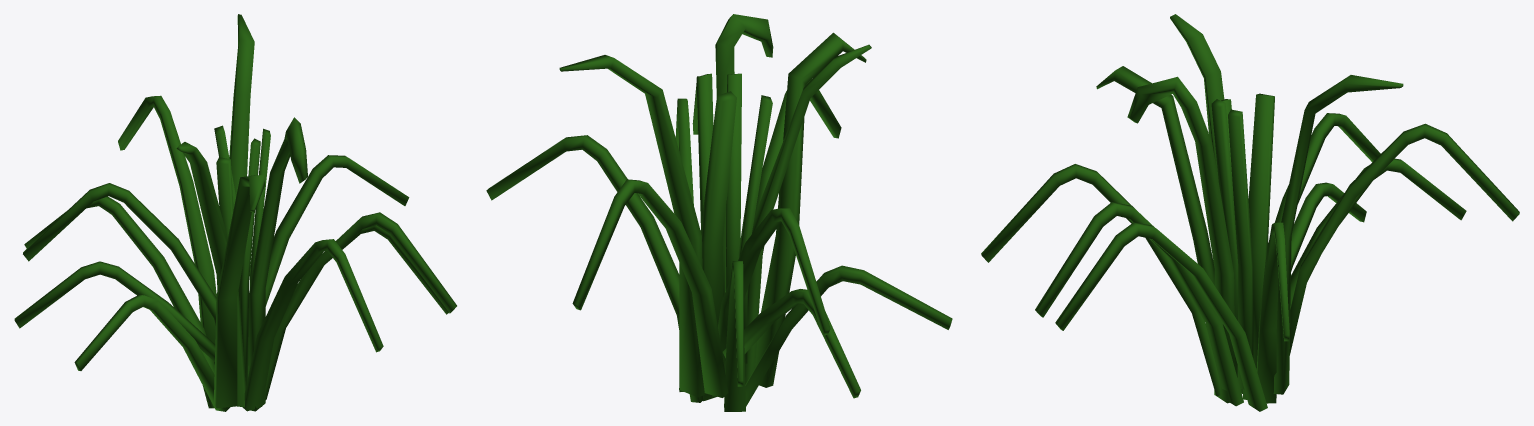
Rendered from DecorePlant4.fbx.
3 renders of one model, left to right at view 1: azimuth 30°, elevation 25°; view 2: azimuth 150°, elevation 25°; view 3: azimuth 270°, elevation 25°, orthographic. The views are drawn at different scales.
Parts seen in each view (by area): view 1: Rice_Plant.001; view 2: Rice_Plant.001; view 3: Rice_Plant.001.
Boxes of the visible parts, x1=… form: Rice_Plant.001: x1=14, y1=14, x2=456, y2=411; Rice_Plant.001: x1=486, y1=14, x2=952, y2=411; Rice_Plant.001: x1=981, y1=14, x2=1519, y2=411.
Bounding box in the file's own units: 1.89 × 1.59 × 2.19.
